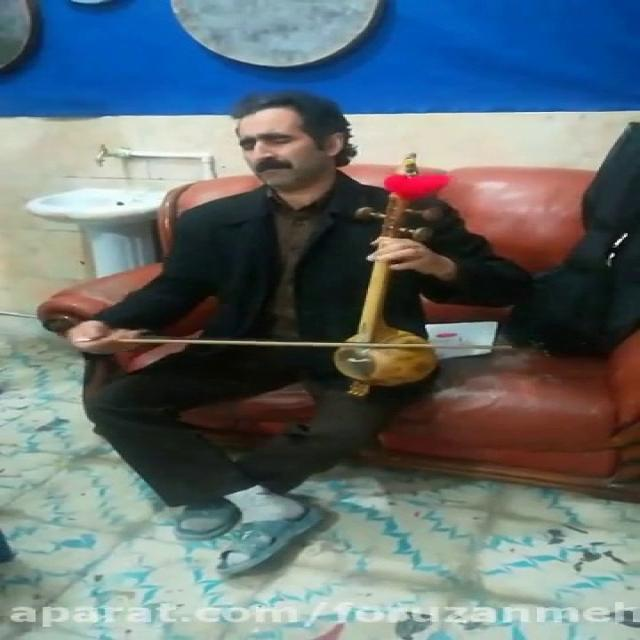Kamanche: (331, 146, 469, 408)
